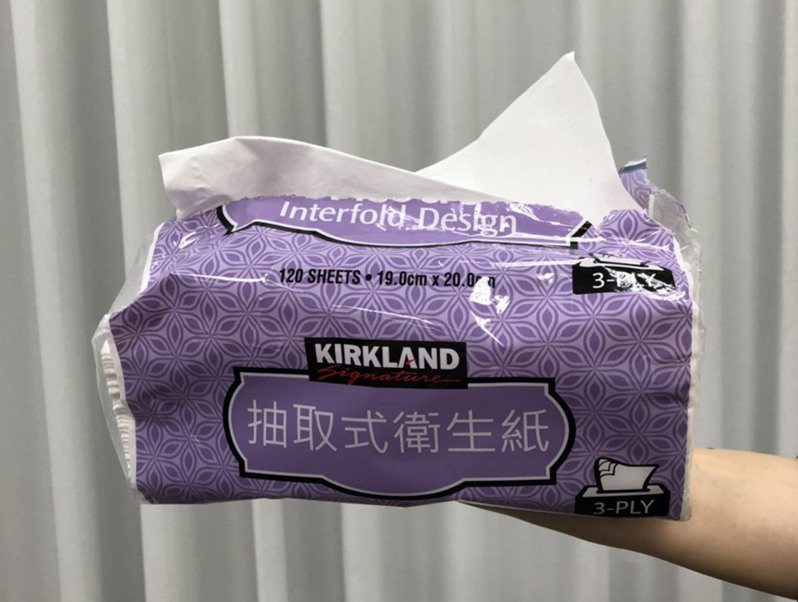tissue: (77, 127, 703, 529)
